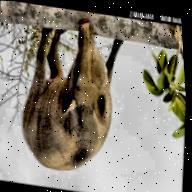boar: (9, 10, 133, 181)
